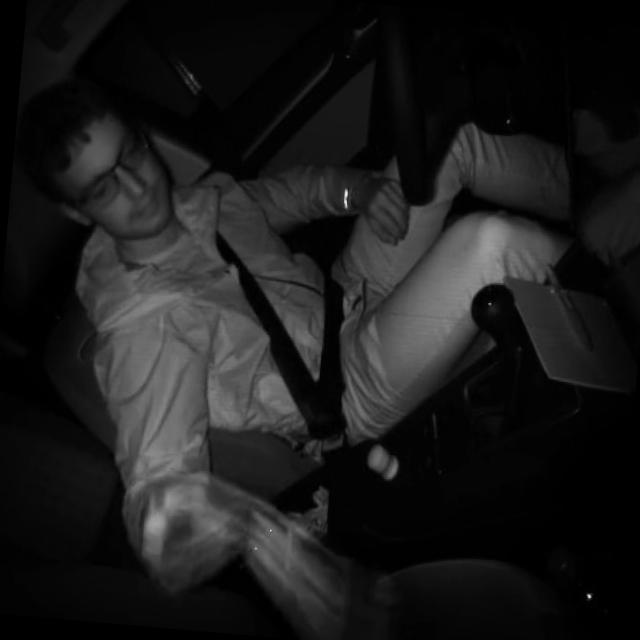pen: (536, 258, 596, 350)
